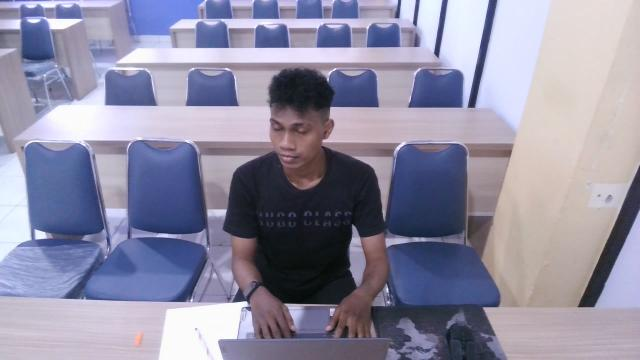Looking_Around: (209, 63, 398, 347)
